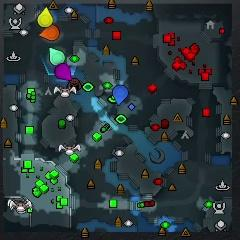p1: (113, 86, 128, 106)
p2: (49, 47, 65, 66)
p3: (55, 63, 72, 80)
p4: (38, 8, 53, 27)
p5: (40, 25, 60, 40)
